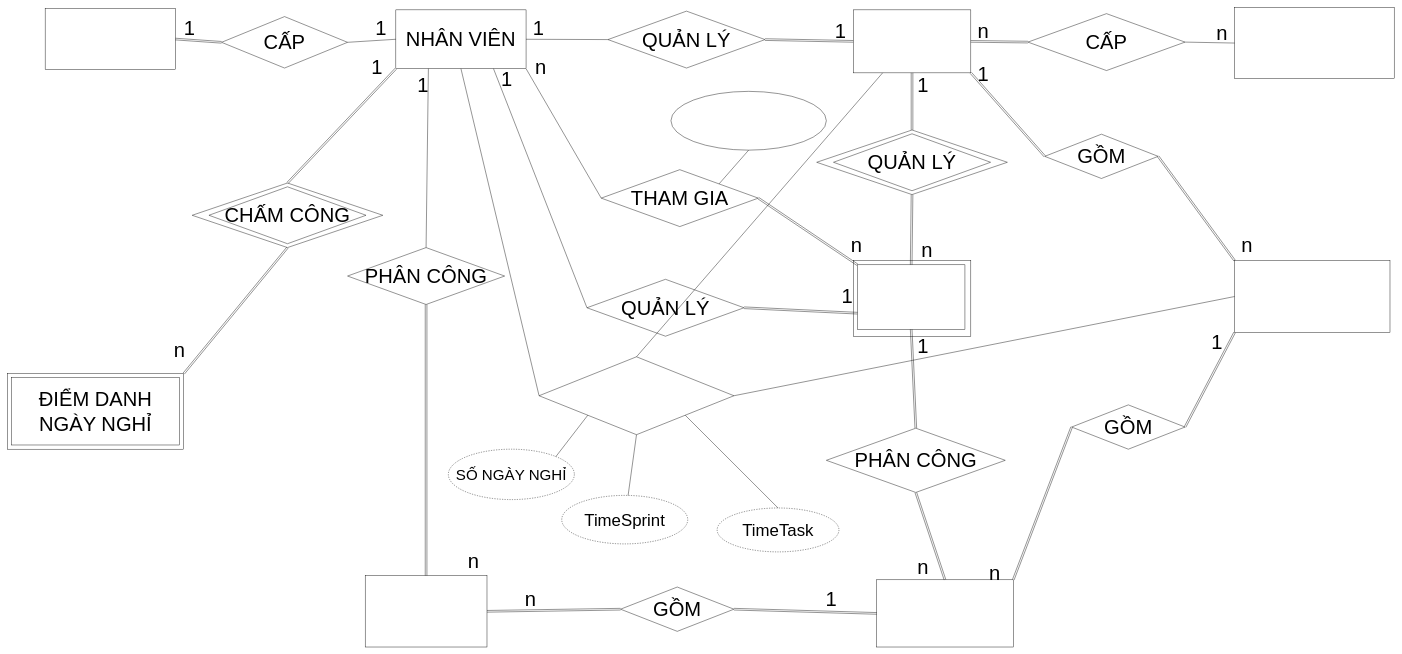
The diagram is 1402 pixels wide and 654 high, and some of its shapes have lost their labels. The shapes that lost their labels are listed below. From the top down, each one's centre as x and y in pixels, then its label:
(x=110, y=39): TÀI KHOẢN
(x=912, y=41): DỰ ÁN
(x=1314, y=43): TÀI NGUYÊN
(x=748, y=120): Capacity per day
(x=911, y=296): TEAM
(x=1312, y=296): SPRINT
(x=636, y=395): Ước Lượng
(x=426, y=611): Nhiệm Vụ
(x=944, y=613): CÔNG VIỆC
